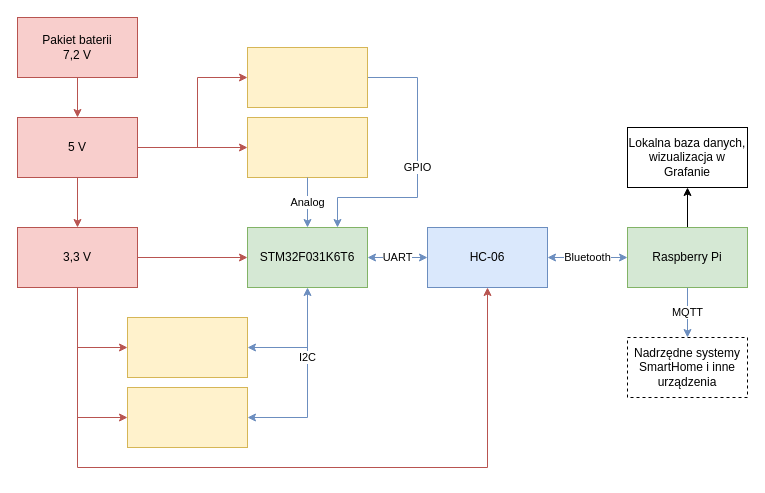
This 765x493 diagram has some shape labels left out. Each missing label, with the centre of its shape:
"BH1750" belongs at point (187, 347).
"BME280" belongs at point (187, 417).
"Czujnik Halla" belongs at point (307, 77).
"GP2Y1010AU0F" belongs at point (307, 147).
